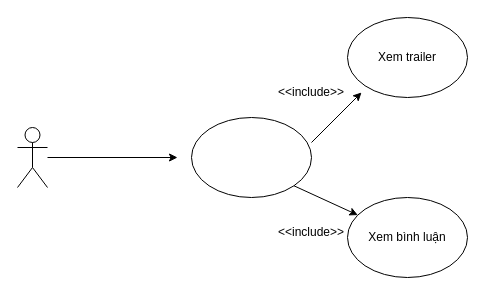
Image size: 485x295. Some labels were removed from this diagram. The shapes that lost their labels are listed below. From the top down, each one's centre as x and y in pixels, then its label:
point (32, 157): Actor
point (251, 157): Xem phim chi tiết
